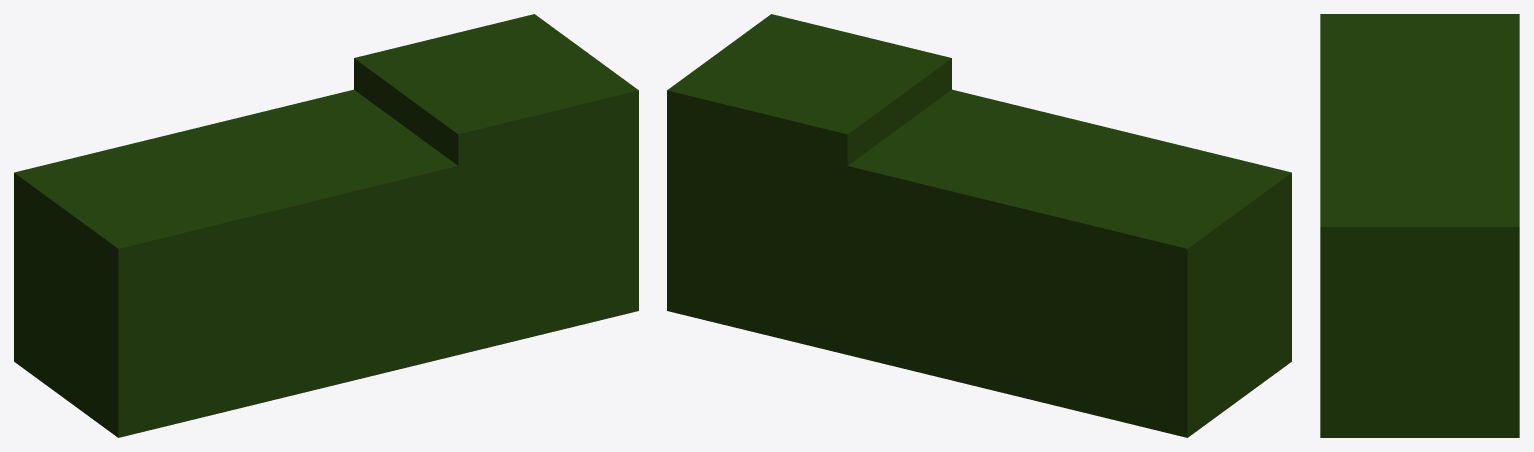
Rendered from cell_52.obj.
3 views of the same model, side by side, from view 1: azimuth 30°, elevation 25°; view 2: azimuth 150°, elevation 25°; view 3: azimuth 270°, elevation 25° (orthographic). The views are drawn at different scales.
Parts seen in each view (by area): view 1: cell_52; view 2: cell_52; view 3: cell_52.
Boxes of the visible parts, x1,y1,x2,y2 form: cell_52: (14,14,638,437); cell_52: (667,14,1291,437); cell_52: (1320,14,1519,437).
Bounding box in the file's own units: 0.605 × 0.245 × 0.21.
